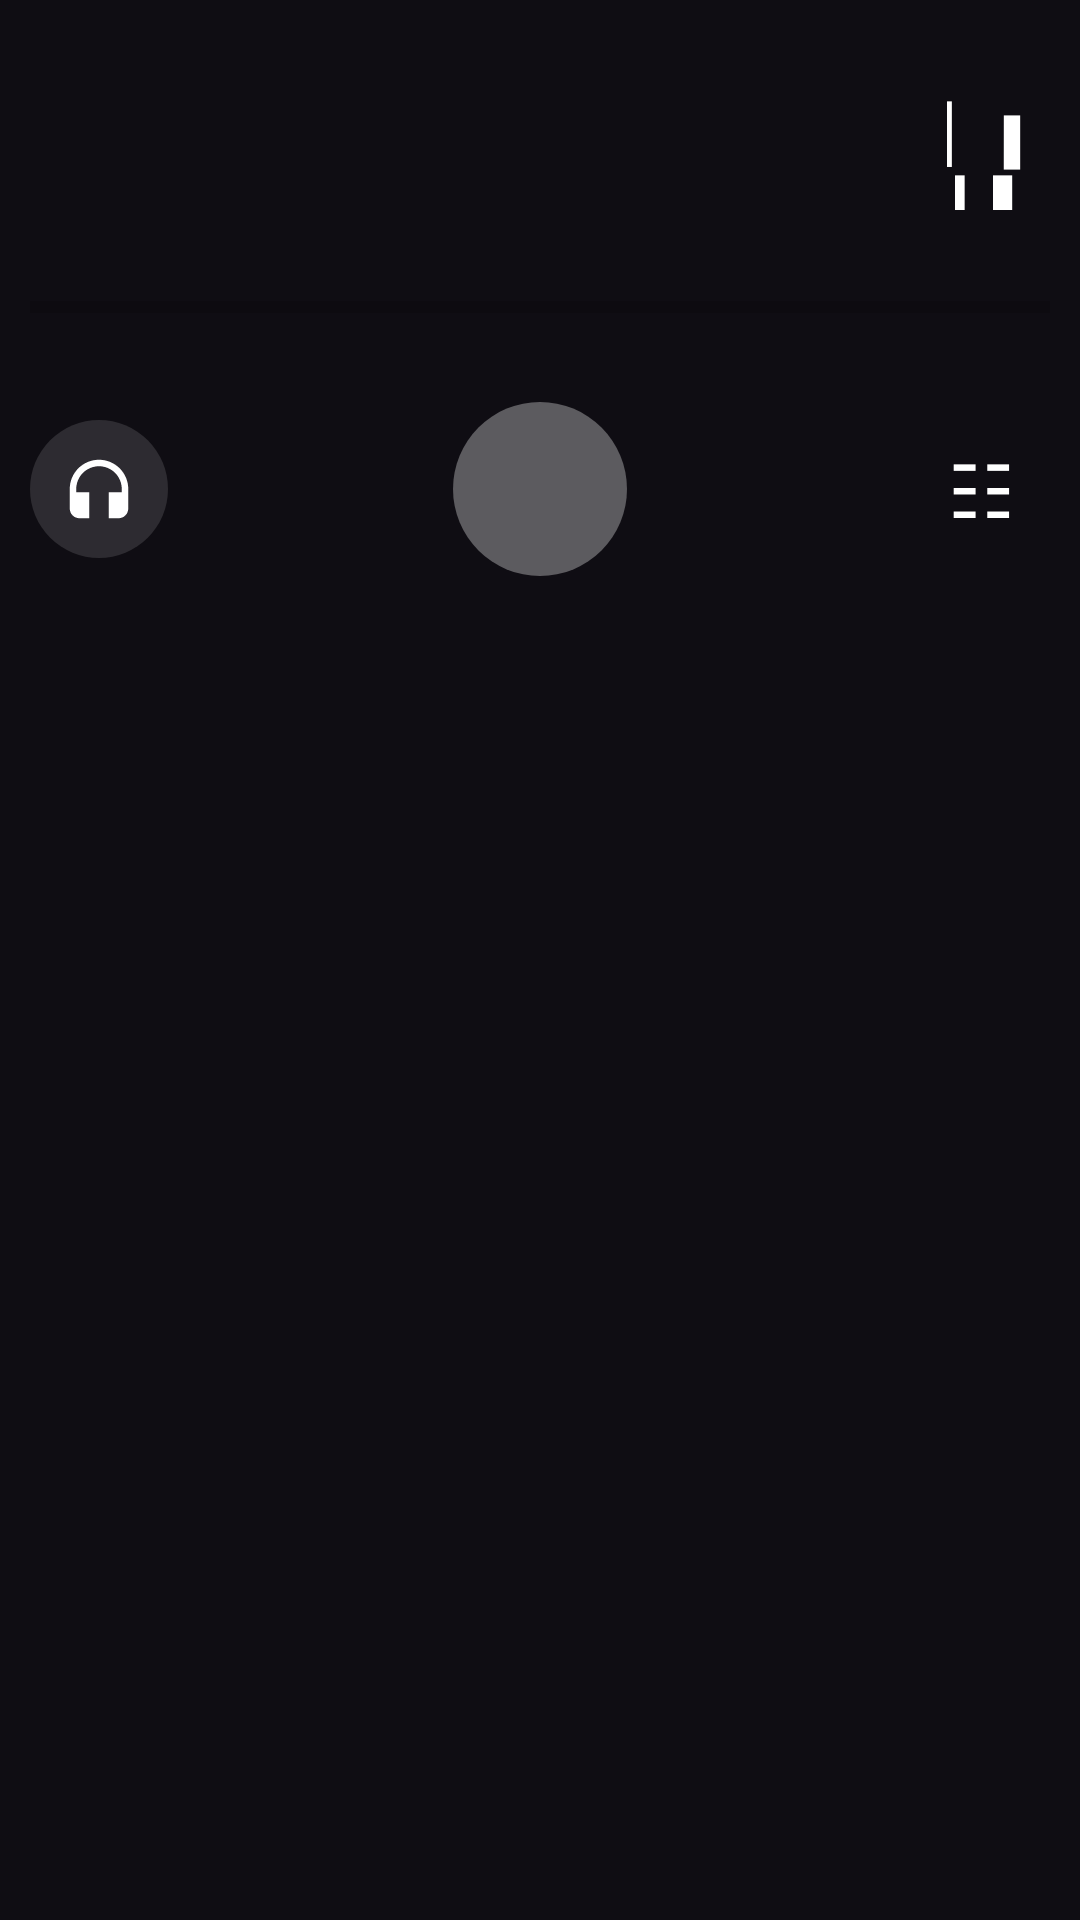

Locate icon controls on the screen. Image size 1080px x 1920px, boxes as (x1, y1, x2, y2).
耳机与音频输出: (30, 420, 168, 558)
